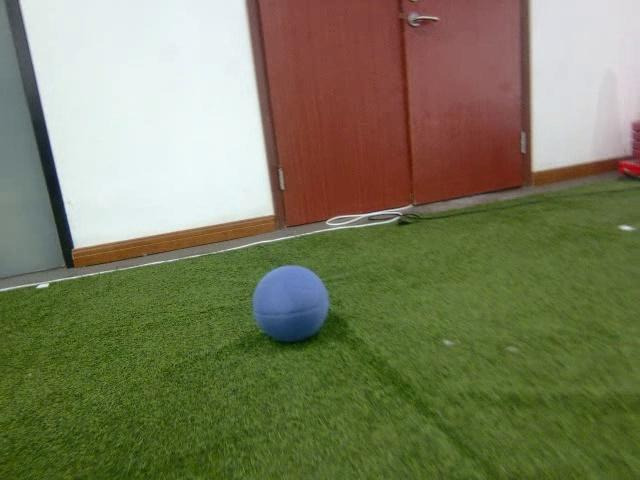blue_ball: (252, 265, 329, 348)
